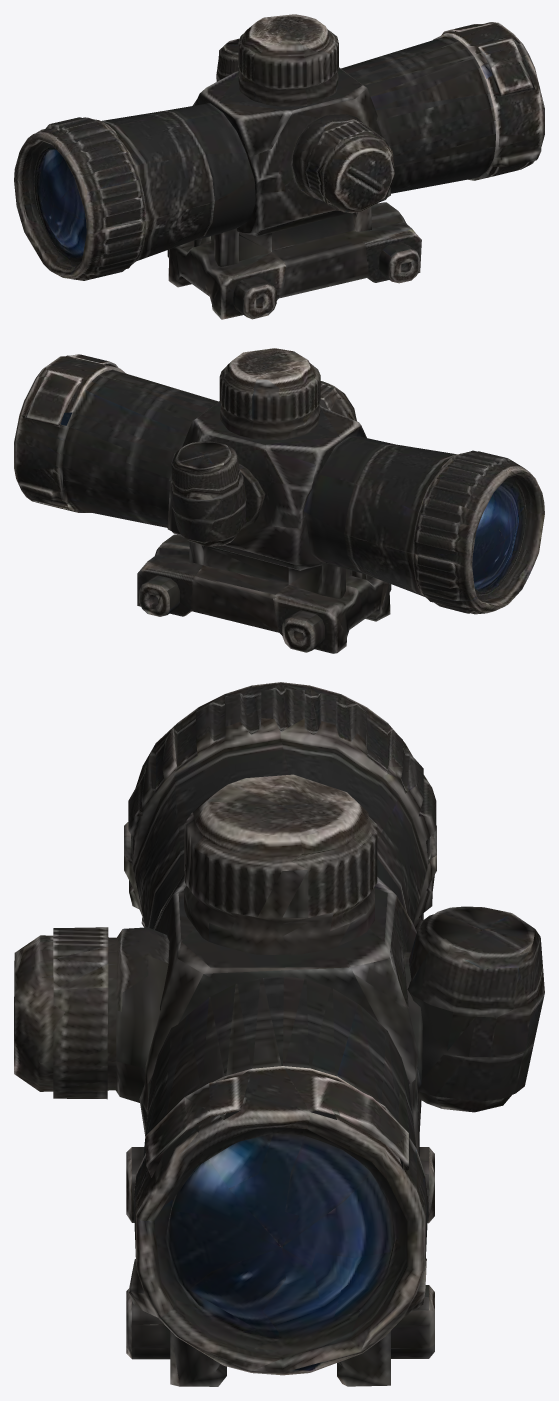
File: g_scope.glb
3 renders of one model, top to bottom at view 1: azimuth 30°, elevation 25°; view 2: azimuth 150°, elevation 25°; view 3: azimuth 270°, elevation 25°, orthographic. The views are drawn at different scales.
Size of the model in its own units: 0.9565 by 0.4893 by 0.4898.
Materials: 1 (1 with a texture image).
